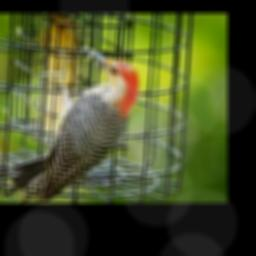Woodpecker: (11, 45, 139, 202)
